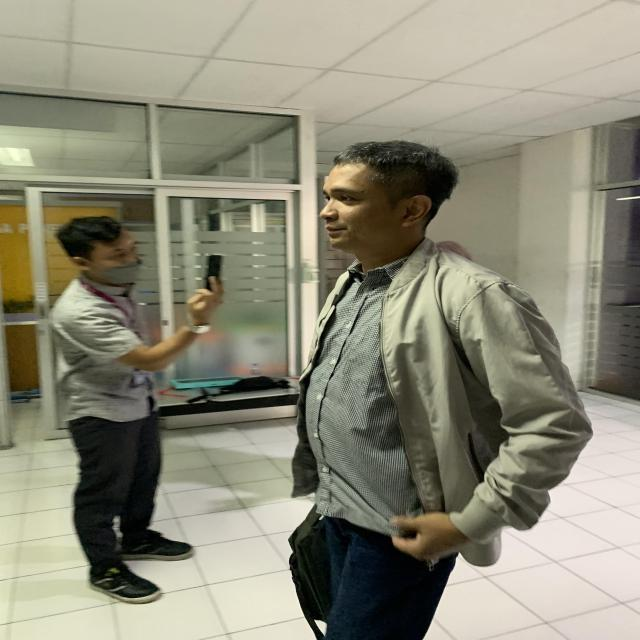hairnet: (47, 218, 162, 298)
